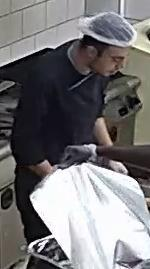no_apron: (40, 24, 133, 161)
